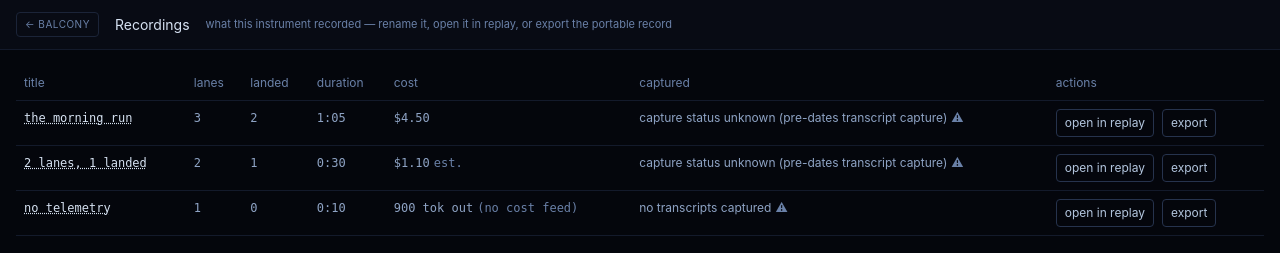
RecordingsPage › renaming a row updates its title in place, without a full reload of the page's own listing
Click the button with test id "rename-start-2000". click: (85, 163)
box: [24,154,147,172]
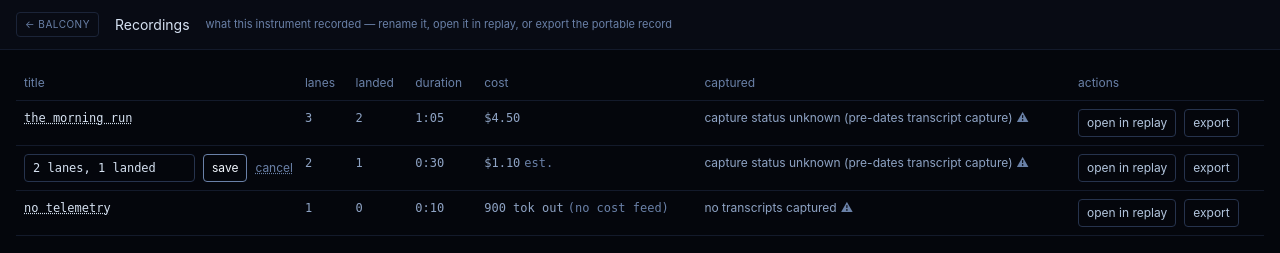
Replace the text in the field with test id "rename-input-2000" with "renamed run". click: (110, 168)
box: [24,154,195,182]
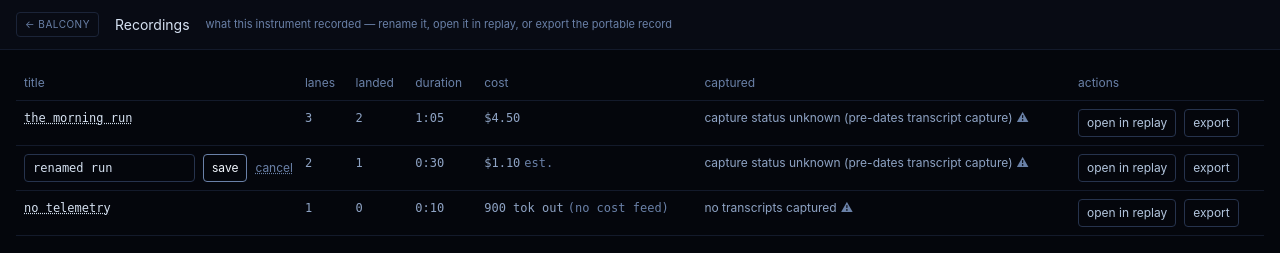
Click the button with test id "rename-save-2000". click: (225, 168)
box: [203,154,247,182]
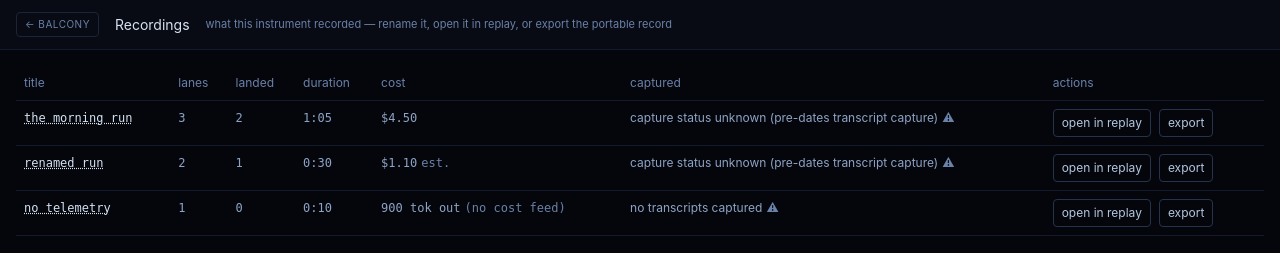
Expected: the button with test id "rename-start-2000" reads "renamed run", [24,154,104,172]
